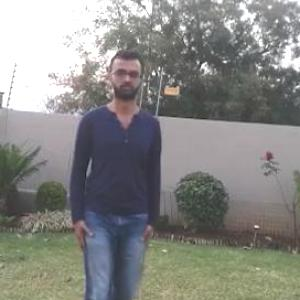follow: (73, 48, 173, 299)
